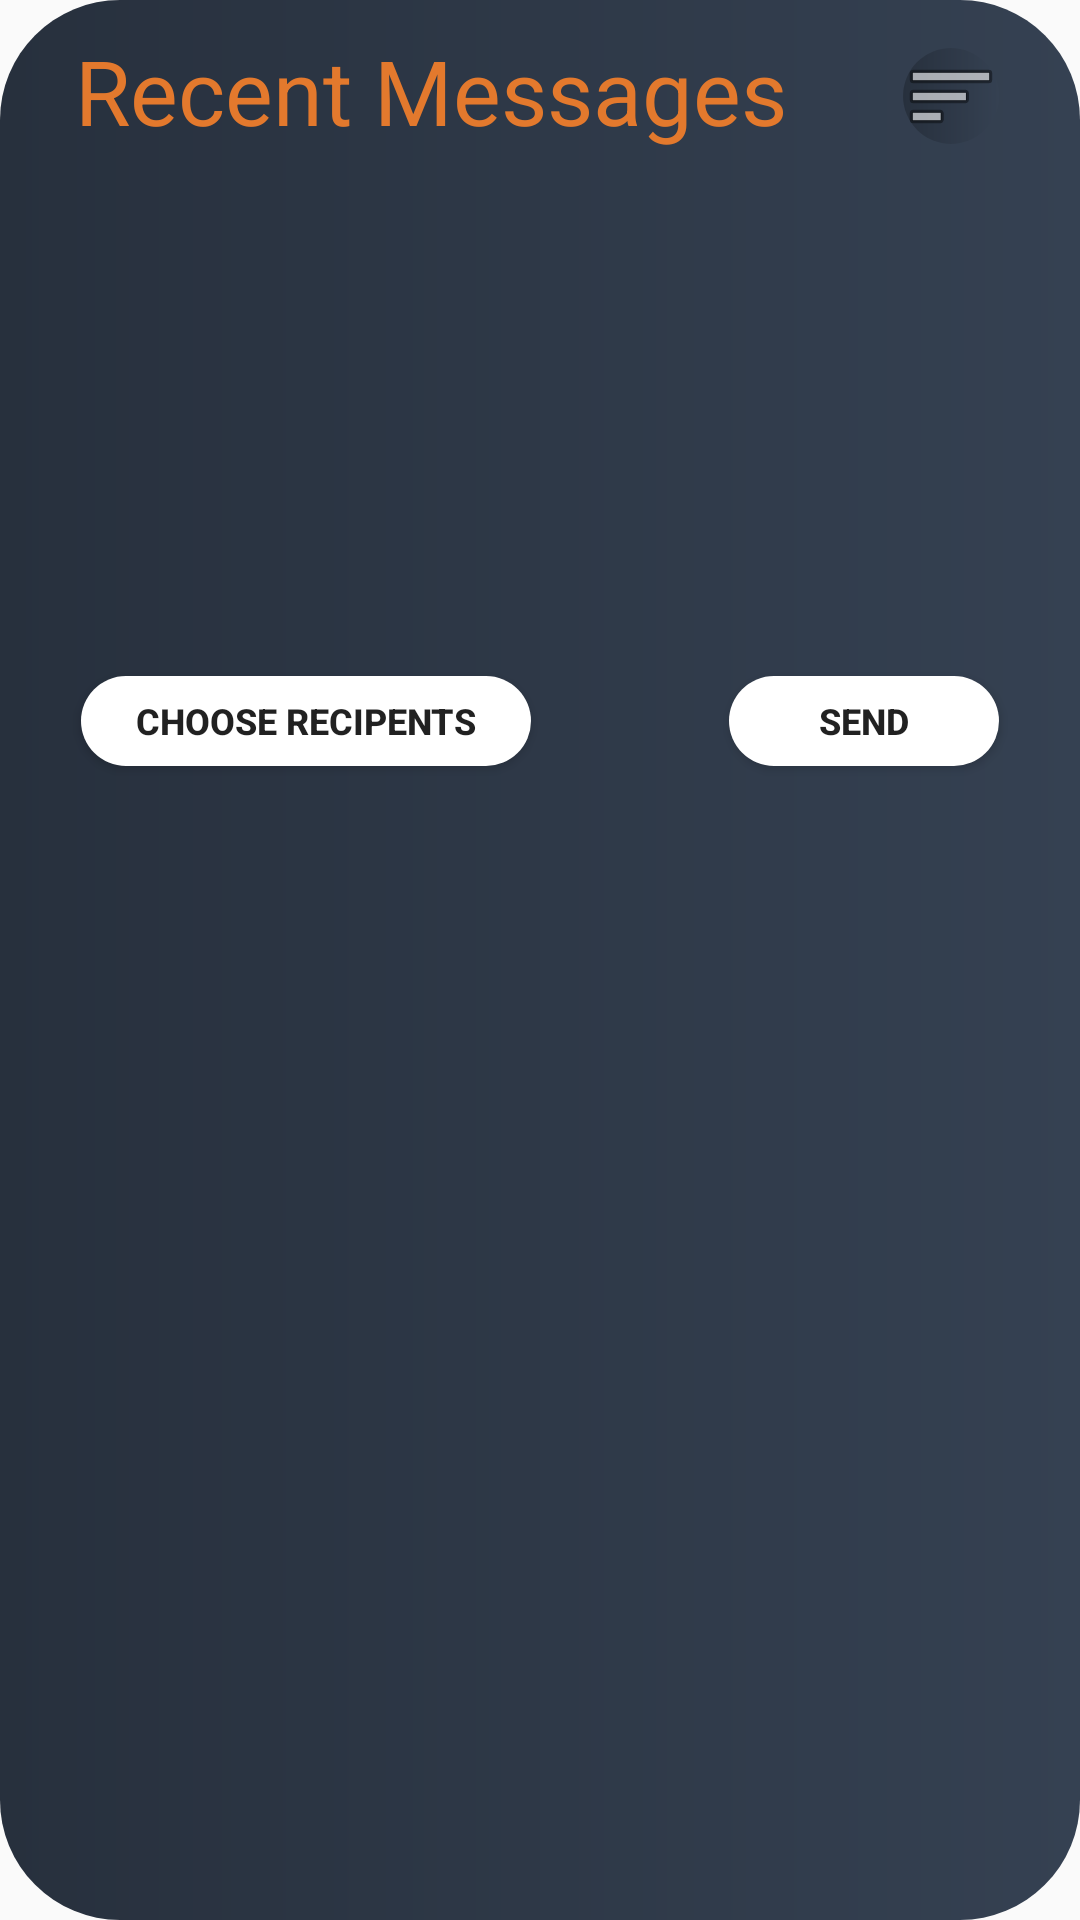

Locate icon controls on the screen. Image size 1080 × 1920, boxes as bbox=[x1, y1, x2, y2].
sort by size: bbox=[910, 70, 992, 123]
